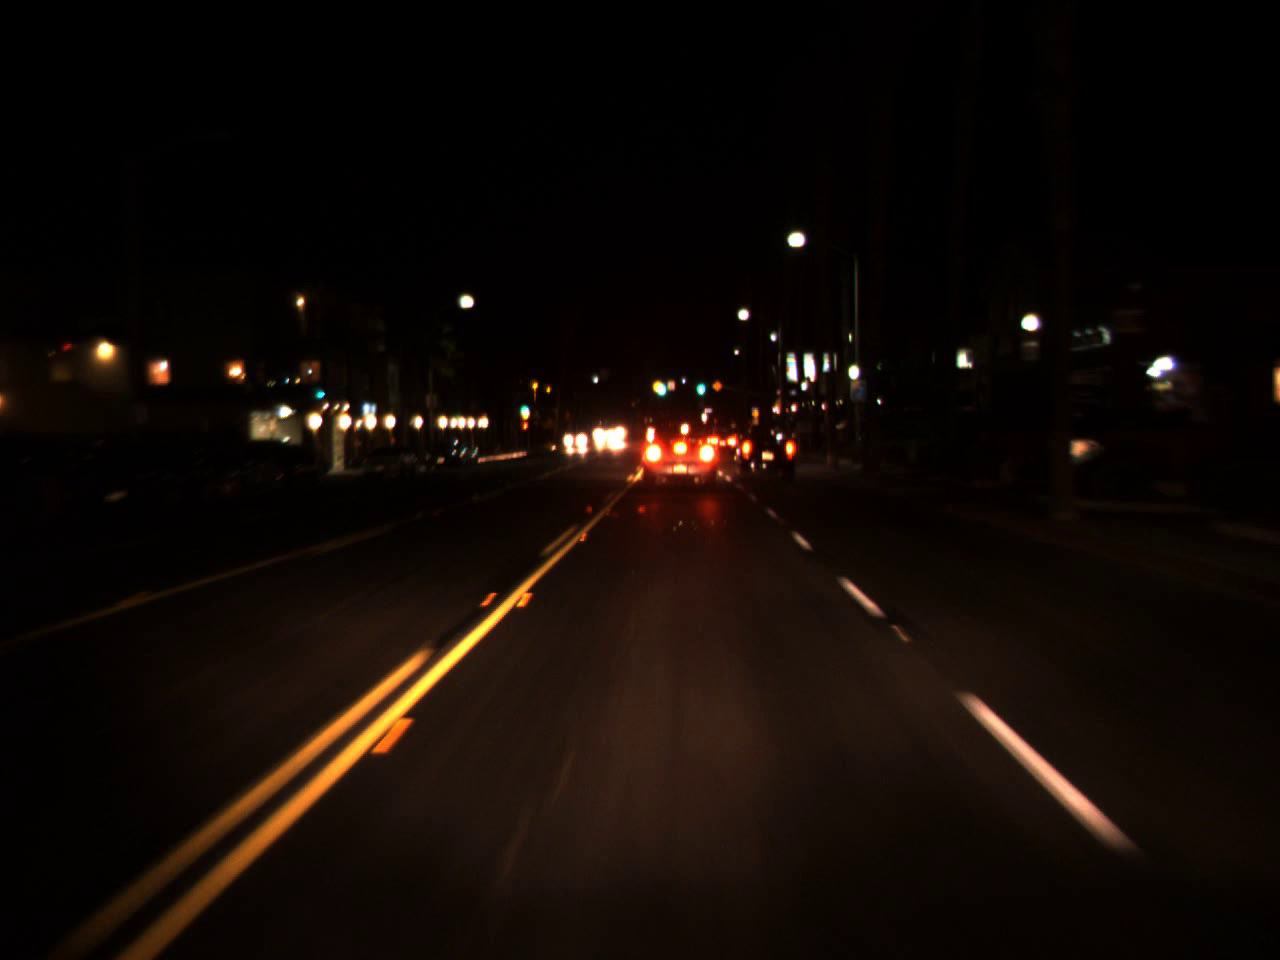go: (694, 373, 706, 397), (656, 374, 666, 398), (519, 400, 528, 412)
